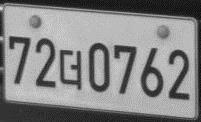0: (87, 42, 110, 93)
2: (166, 47, 191, 101), (34, 37, 57, 88)
6: (139, 47, 165, 98)
7: (112, 43, 137, 95), (7, 35, 31, 85)
더: (58, 48, 83, 91)
